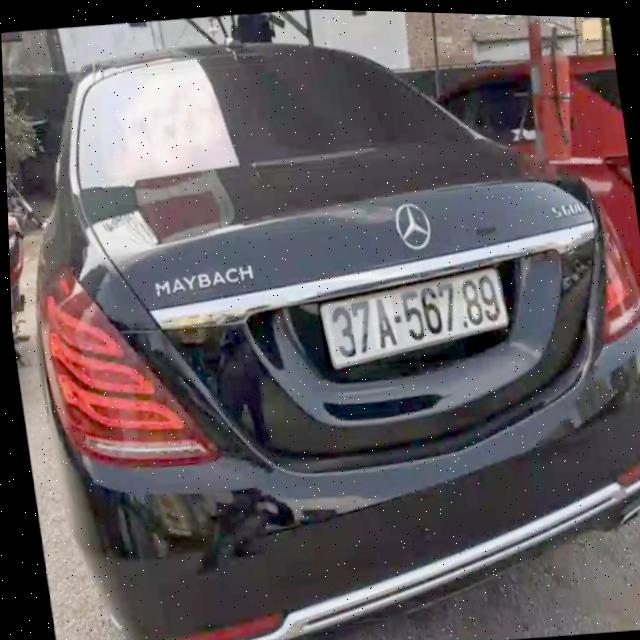car: (4, 1, 640, 640)
plate: (312, 260, 514, 374)
